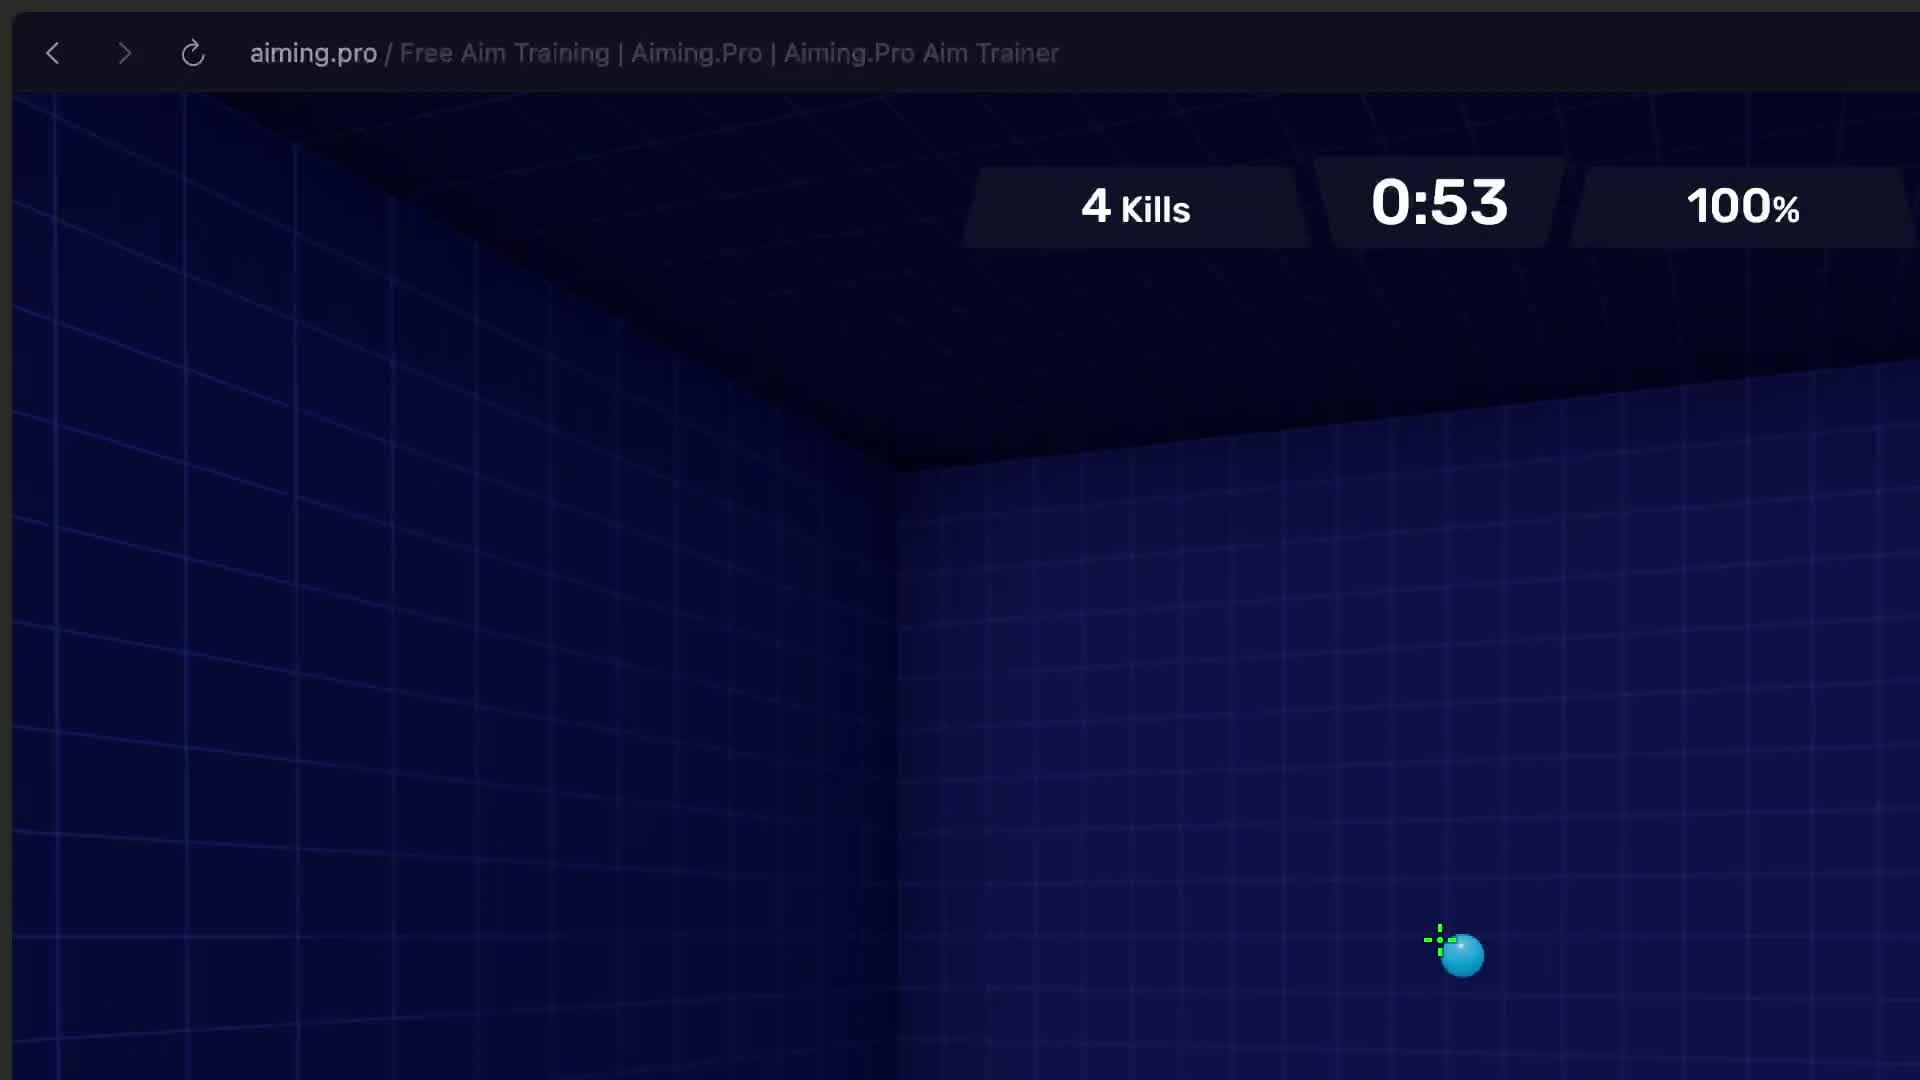target: (1443, 935, 1484, 977)
